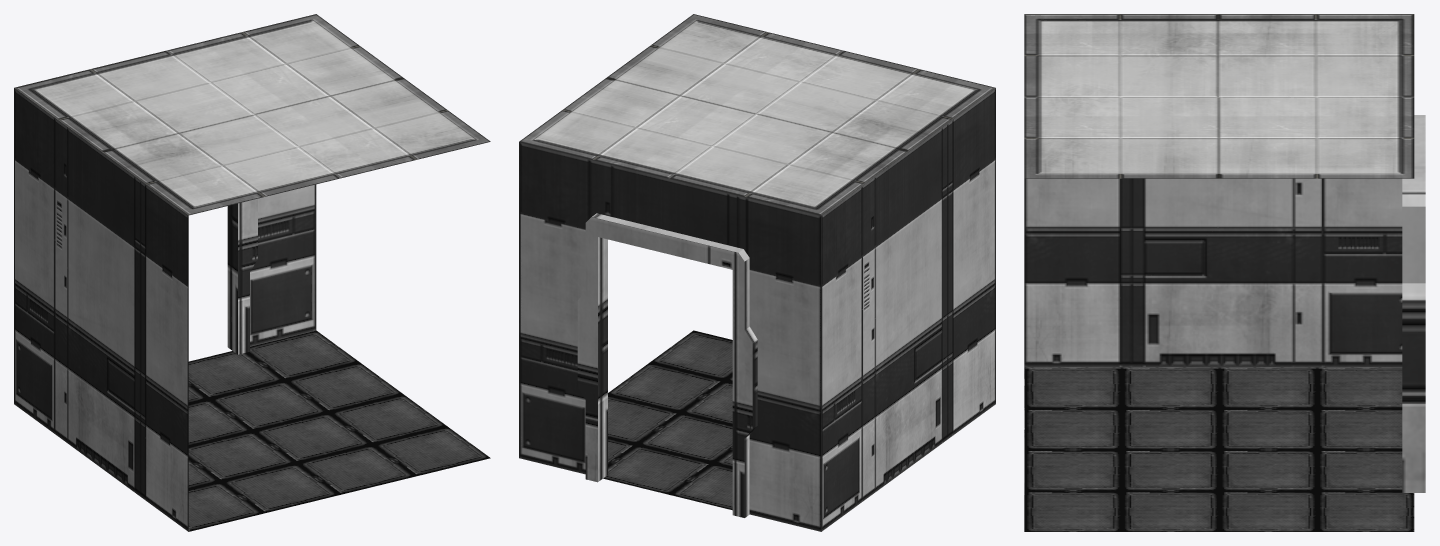
The model's file is CorridorCorner3.fbx.
The picture shows the model from 3 angles, left to right: view 1: azimuth 30°, elevation 25°; view 2: azimuth 150°, elevation 25°; view 3: azimuth 270°, elevation 25°; orthographic projection. The views are drawn at different scales.
Visible parts, largest first — view 1: CorridorCorner3; view 2: CorridorCorner3; view 3: CorridorCorner3.
Boxes of the visible parts, x1=… form: CorridorCorner3: x1=14, y1=14, x2=490, y2=531; CorridorCorner3: x1=519, y1=14, x2=995, y2=531; CorridorCorner3: x1=1024, y1=14, x2=1425, y2=531.
Bounding box in the file's own units: 5 × 5 × 5.14.
